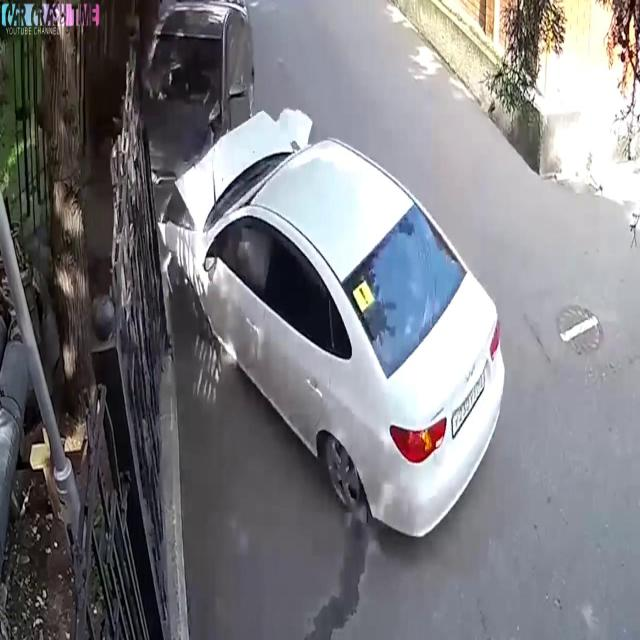accident: (104, 0, 515, 569)
